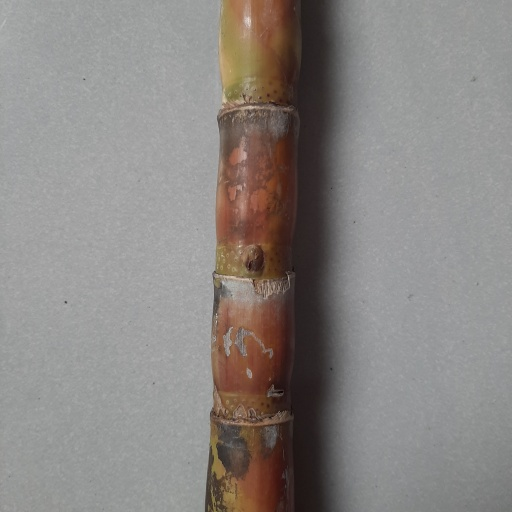Bud: (240, 244, 265, 275)
